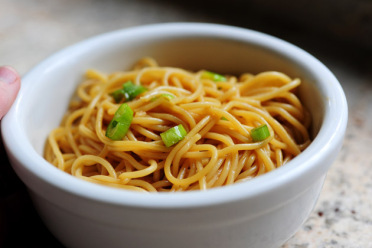plain spaghetti: (55, 66, 304, 181)
